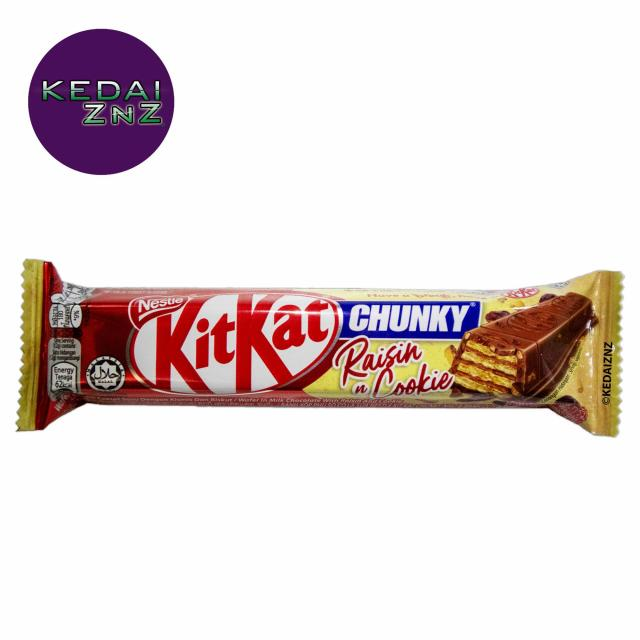kitkat: (20, 261, 620, 438)
